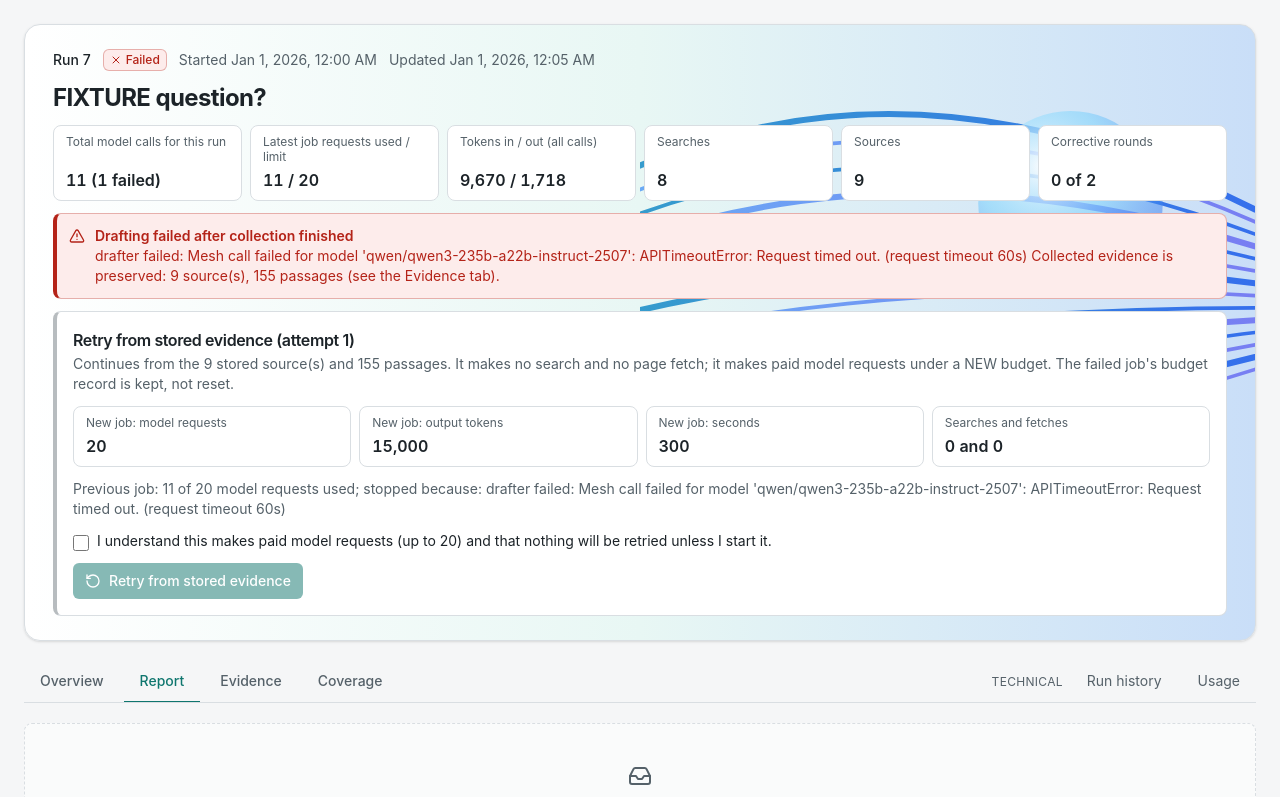
retry panel › shows a refused retry as an error and lets the person try again deliberately
Click the checkbox at (81, 543), box [73,535,89,551]
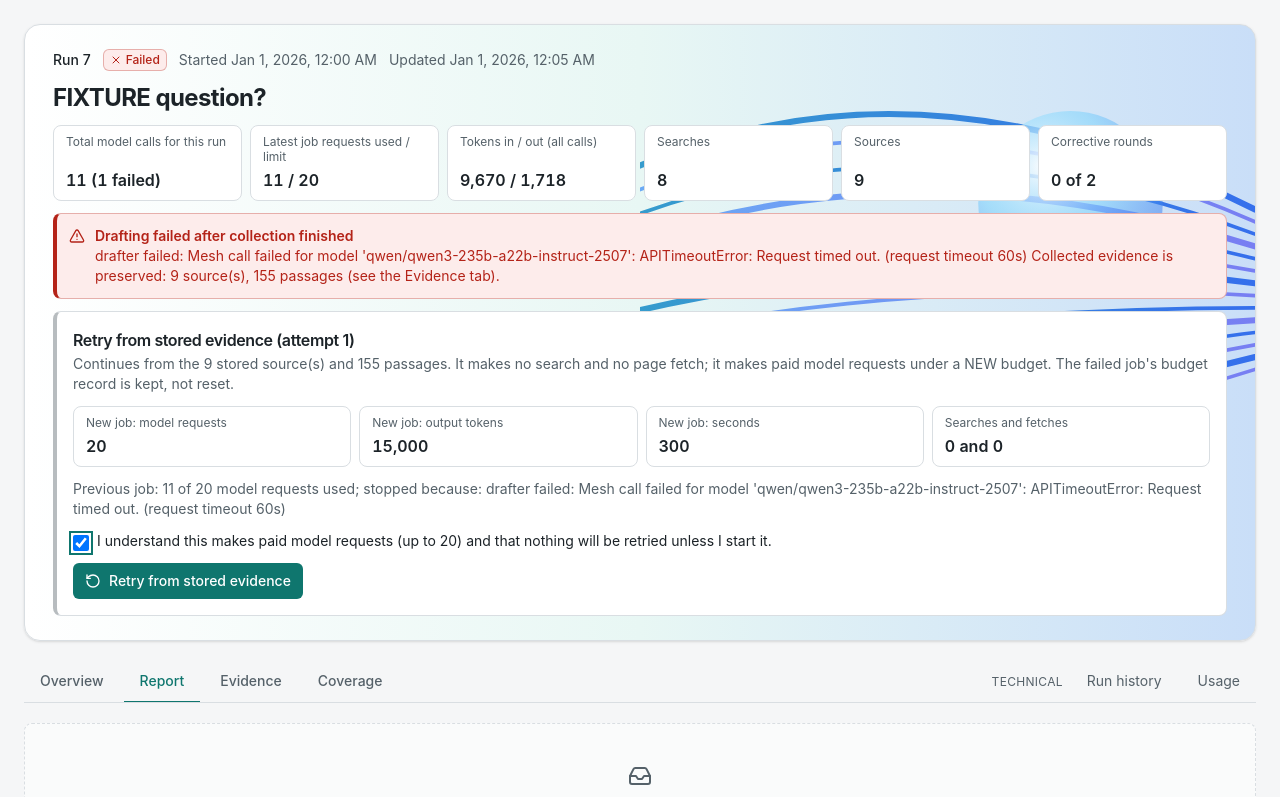
Click the button "Retry from stored evidence" at (188, 581), box [73,563,303,599]
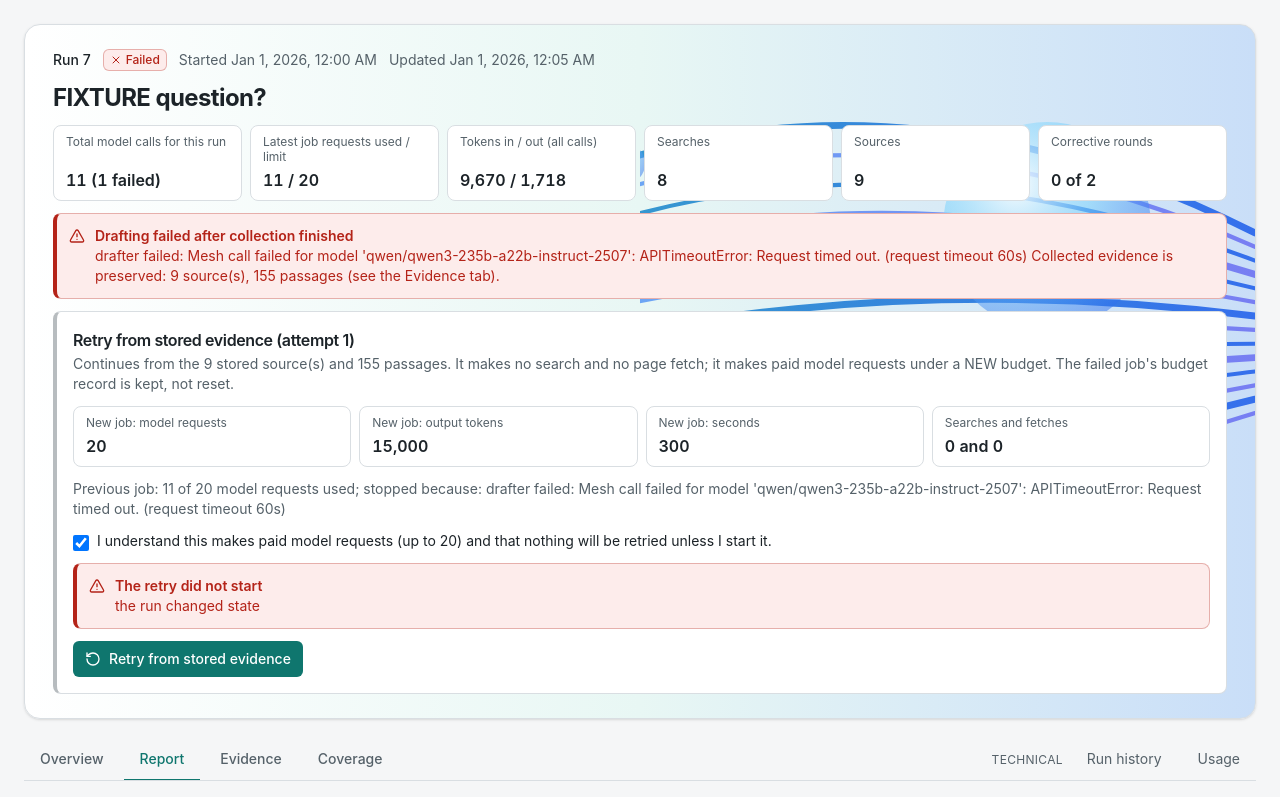
expect the button "Retry from stored evidence" is enabled: met, box [73,641,303,677]
expect the text "the run changed state" is shown: met, box [115,596,262,616]
